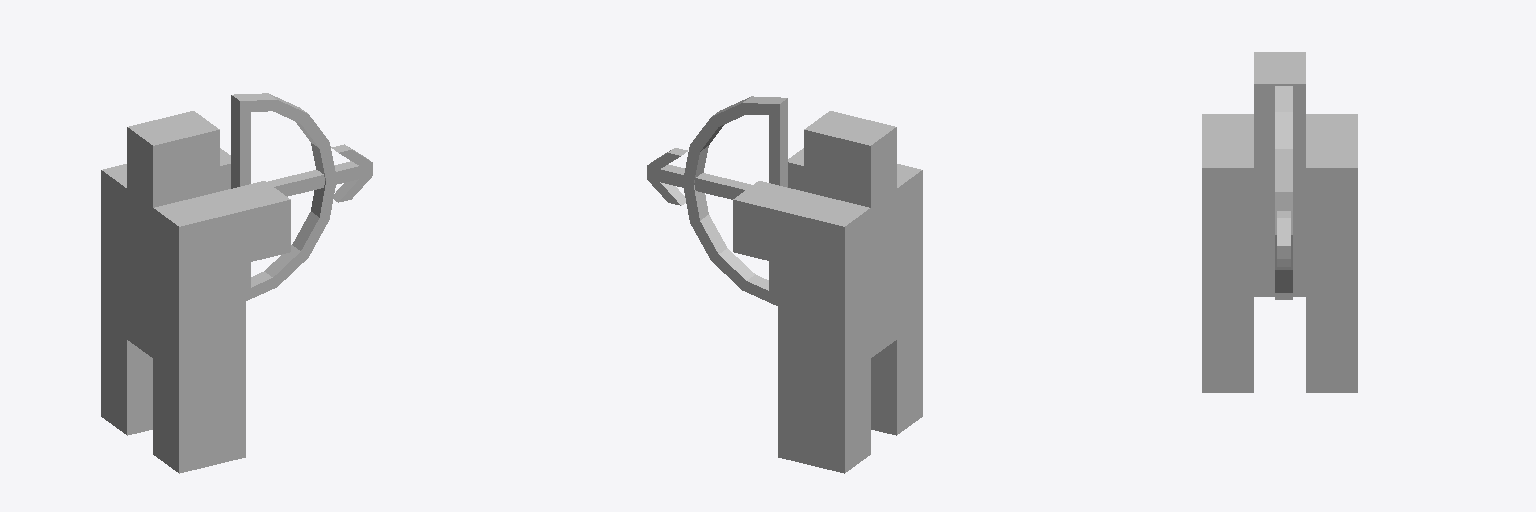
File: archer.obj
The picture shows the model from 3 angles: view 1: azimuth 30°, elevation 25°; view 2: azimuth 150°, elevation 25°; view 3: azimuth 270°, elevation 25°; orthographic projection.
Parts seen in each view (by area): view 1: Archer; view 2: Archer; view 3: Archer.
Part boxes in pixels (left/top/right/bottom): Archer: left=101, top=93, right=372, bottom=473; Archer: left=647, top=96, right=922, bottom=473; Archer: left=1202, top=52, right=1357, bottom=392.
Size of the model in its own units: 1.72 by 2.28 by 1.